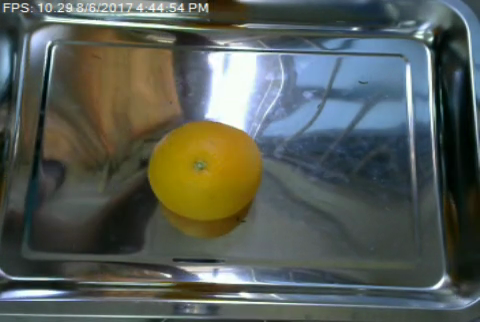Orange: (147, 119, 264, 221)
